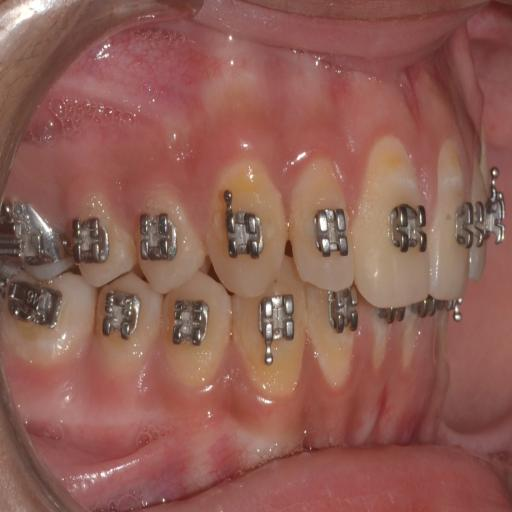correct_brace: (125, 188, 204, 304), (220, 201, 268, 273), (389, 194, 433, 265), (313, 196, 349, 260)
incorrect_brace: (290, 156, 358, 296), (136, 196, 178, 268)
